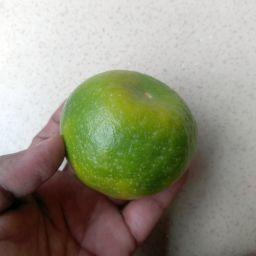Unripe: (59, 69, 198, 199)
